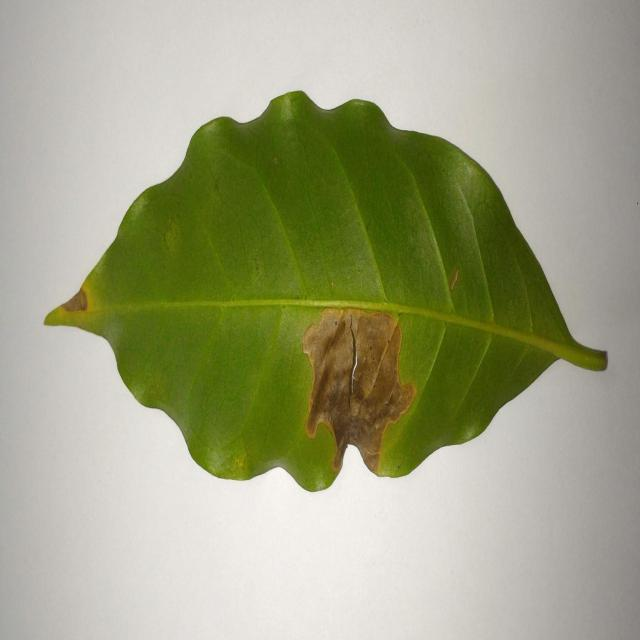Plaga-Minador: (42, 92, 609, 495)
